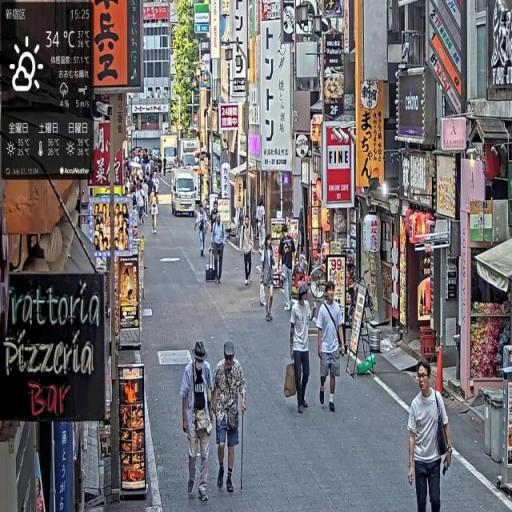person: (408, 358, 455, 512), (211, 340, 249, 496), (180, 340, 216, 504), (316, 280, 347, 417), (289, 283, 315, 416), (279, 222, 297, 315), (259, 237, 278, 324), (211, 208, 228, 287), (241, 215, 256, 288), (196, 204, 208, 258)
